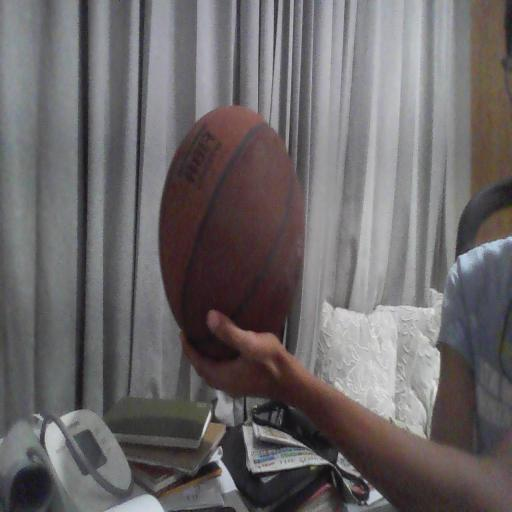basketball: (159, 106, 304, 359)
